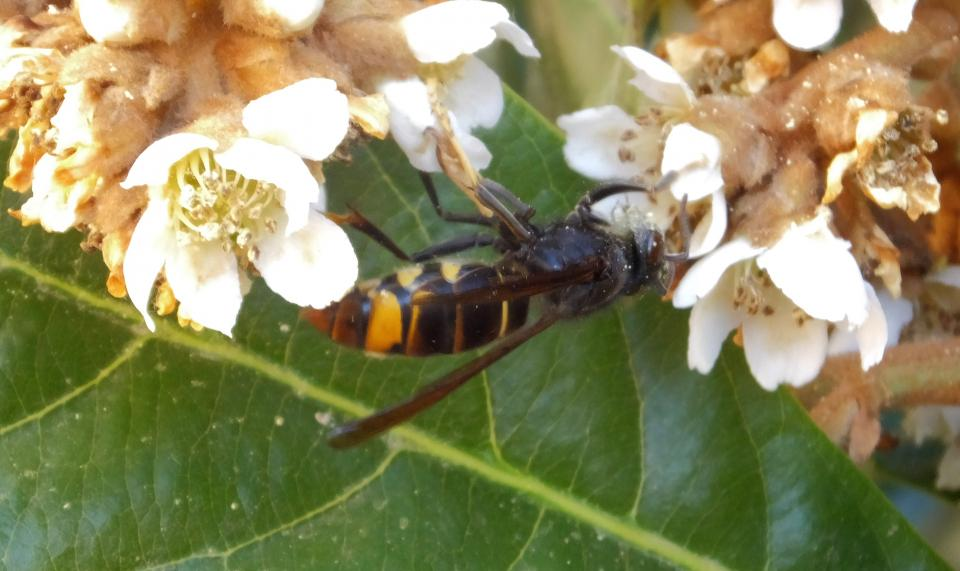hornet: (301, 179, 696, 400)
